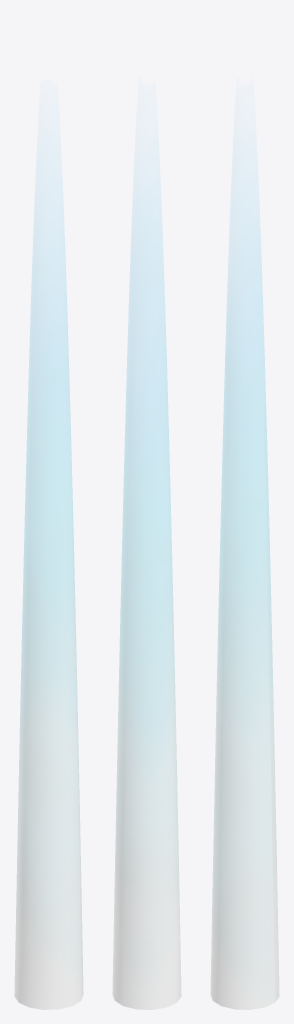
File: trail_core_frost.glb
The picture shows the model from 3 angles, left to right: view 1: azimuth 30°, elevation 25°; view 2: azimuth 150°, elevation 25°; view 3: azimuth 330°, elevation 25°; orthographic projection.
Parts seen in each view (by area): view 1: core; view 2: core; view 3: core.
Boxes of the visible parts, x1,y1,x2,y2 form: core: [14, 233, 83, 1009]; core: [112, 230, 181, 1009]; core: [210, 232, 279, 1009].
Size of the model in its own units: 1.28 by 20 by 1.25.
1 material, 1 textured.
